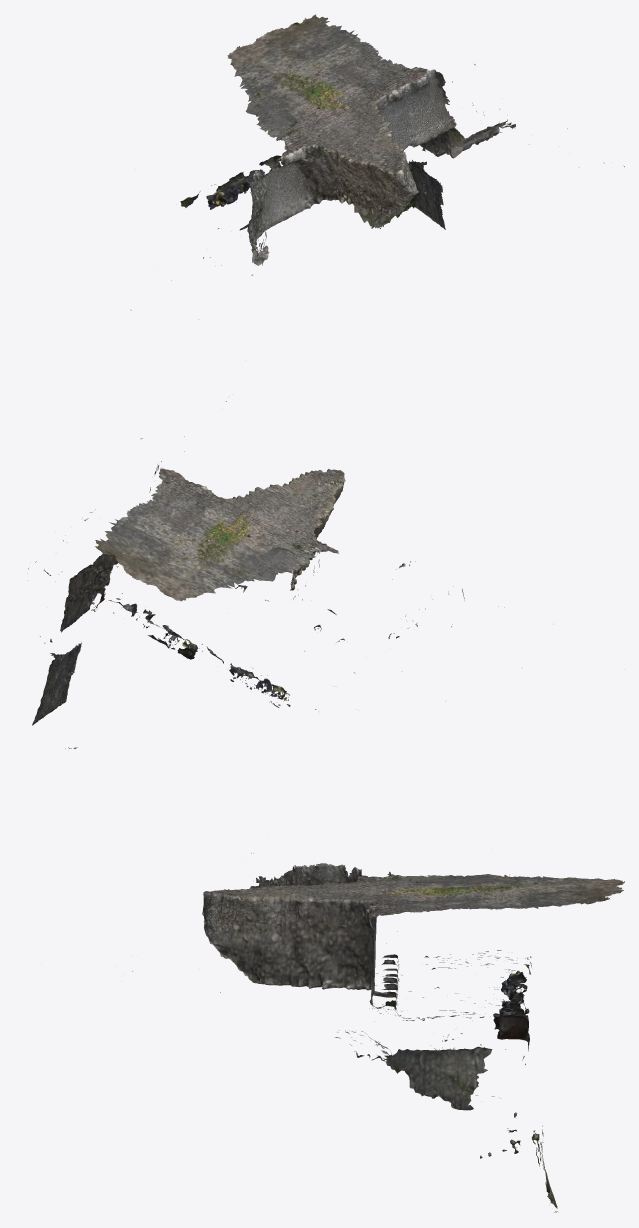
3 views of the same model, one above another, from view 1: azimuth 30°, elevation 25°; view 2: azimuth 150°, elevation 25°; view 3: azimuth 270°, elevation 25° (orthographic). The views are drawn at different scales.
Size of the model in its own units: 17.16 by 7.81 by 15.02.
1 material, 1 textured.
